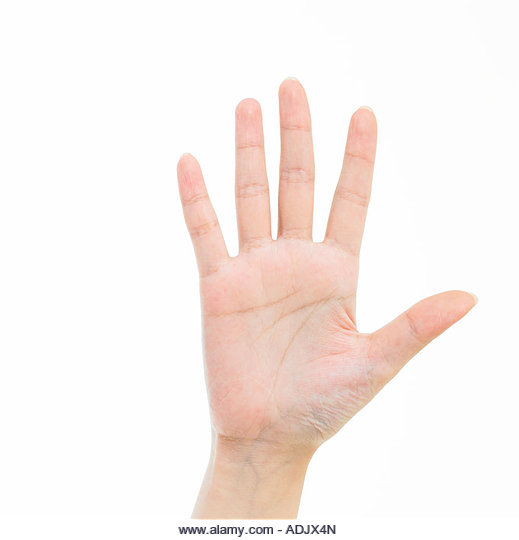hand: (157, 64, 496, 491)
